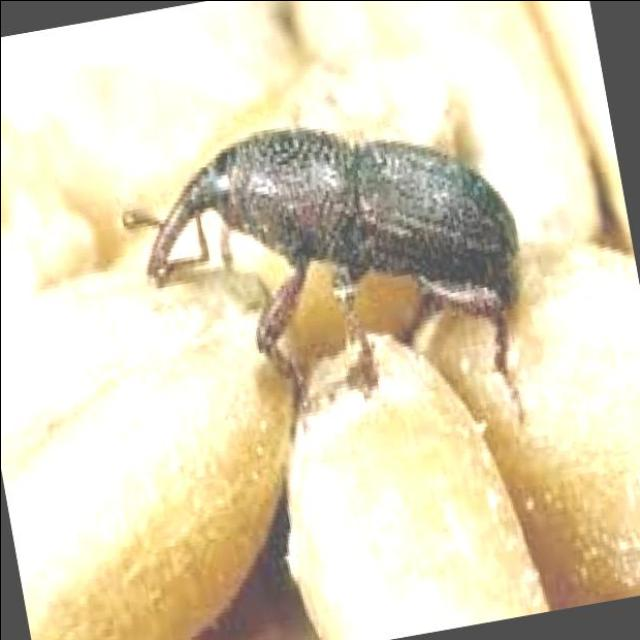ricebug: (148, 128, 518, 369)
